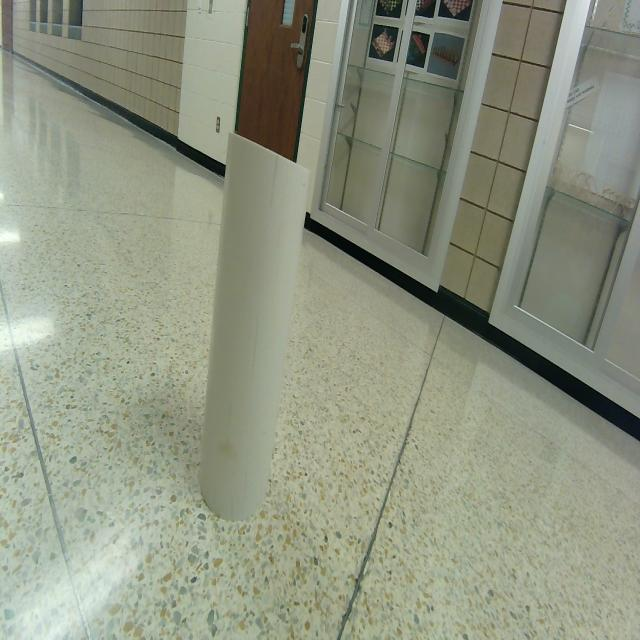coral: (200, 134, 310, 522)
